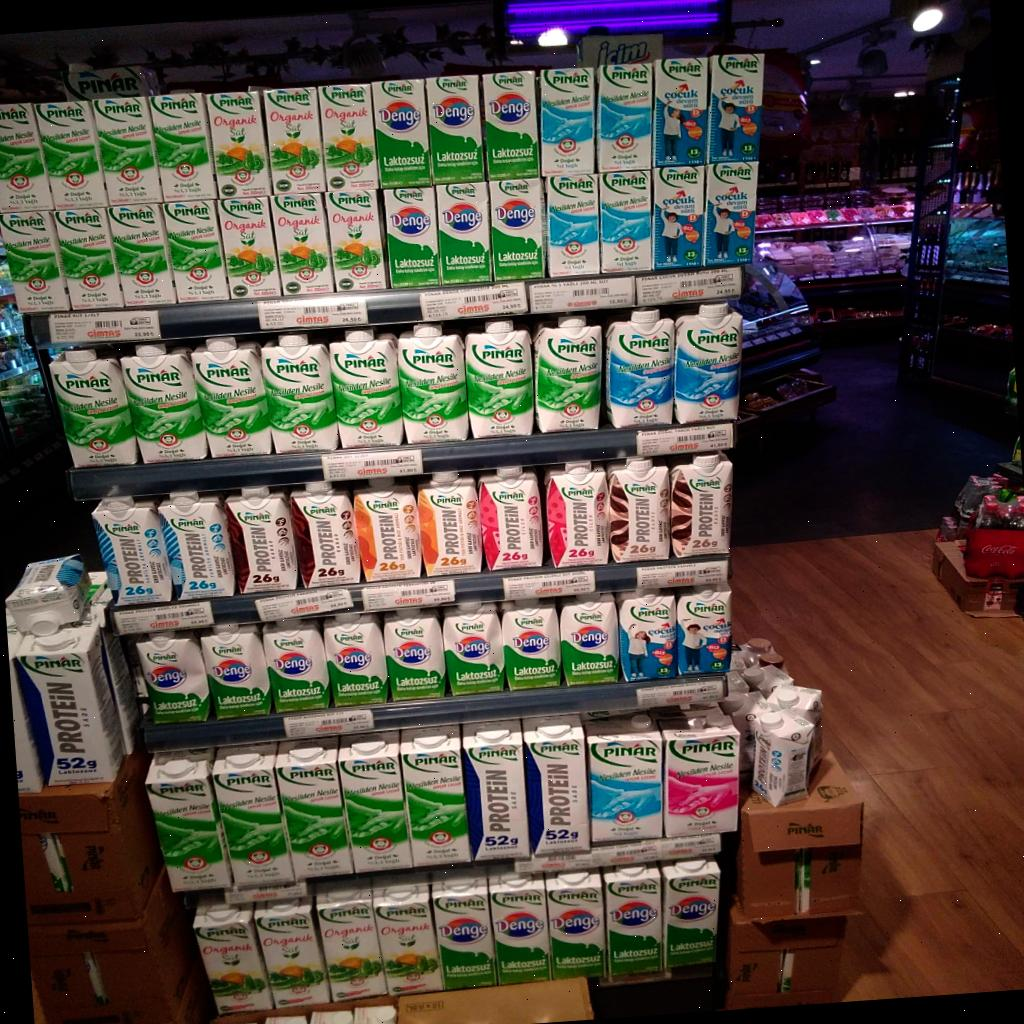price_tag: (636, 267, 743, 306), (420, 283, 528, 321), (49, 310, 160, 345), (258, 295, 367, 330), (530, 276, 635, 312), (637, 422, 734, 457), (322, 448, 424, 481), (113, 601, 214, 634), (256, 588, 353, 621), (636, 674, 726, 707), (362, 579, 455, 610), (504, 571, 595, 600), (283, 709, 374, 738), (638, 560, 727, 589), (224, 880, 307, 905), (514, 852, 595, 873), (660, 834, 722, 861), (591, 842, 658, 866)
product: (146, 753, 231, 892), (214, 743, 294, 889), (275, 736, 353, 878), (338, 732, 413, 873), (660, 706, 740, 837), (50, 350, 139, 467), (121, 344, 207, 462), (585, 714, 663, 843), (400, 724, 470, 866), (191, 337, 273, 457), (462, 719, 530, 861), (524, 715, 590, 854), (261, 334, 338, 453), (194, 903, 273, 1014), (330, 331, 404, 448), (93, 497, 172, 606), (398, 323, 469, 442), (159, 491, 235, 601), (255, 898, 331, 1007), (604, 309, 674, 427), (674, 303, 742, 423), (465, 321, 534, 438), (372, 883, 443, 996), (533, 316, 602, 432), (316, 888, 386, 1002), (34, 101, 107, 208), (92, 97, 163, 203), (227, 487, 298, 593), (291, 481, 360, 588), (52, 208, 124, 310), (105, 204, 176, 307), (0, 211, 71, 313), (150, 93, 217, 201), (206, 91, 273, 198), (432, 878, 496, 990), (354, 479, 422, 581), (488, 875, 551, 985), (163, 200, 229, 303), (603, 864, 663, 977), (136, 633, 210, 724), (660, 858, 721, 968), (545, 870, 607, 978), (264, 87, 327, 193), (201, 624, 272, 718), (269, 194, 335, 295), (479, 466, 543, 570), (418, 471, 482, 575), (547, 461, 609, 567), (670, 454, 733, 558), (482, 70, 541, 180), (325, 190, 388, 292), (218, 197, 281, 299), (608, 459, 670, 562), (373, 80, 432, 188), (426, 76, 484, 184), (707, 53, 764, 162), (263, 621, 331, 712), (596, 64, 653, 172), (539, 68, 595, 176), (653, 58, 709, 166), (320, 85, 378, 189), (324, 613, 388, 706), (0, 103, 54, 212), (543, 174, 600, 277), (383, 187, 441, 288), (489, 178, 545, 282), (436, 181, 492, 285), (384, 610, 446, 701), (443, 603, 504, 694), (559, 593, 619, 685), (501, 600, 561, 691), (704, 163, 757, 266), (652, 166, 705, 269), (618, 591, 679, 680), (599, 170, 652, 272), (676, 589, 732, 675)
